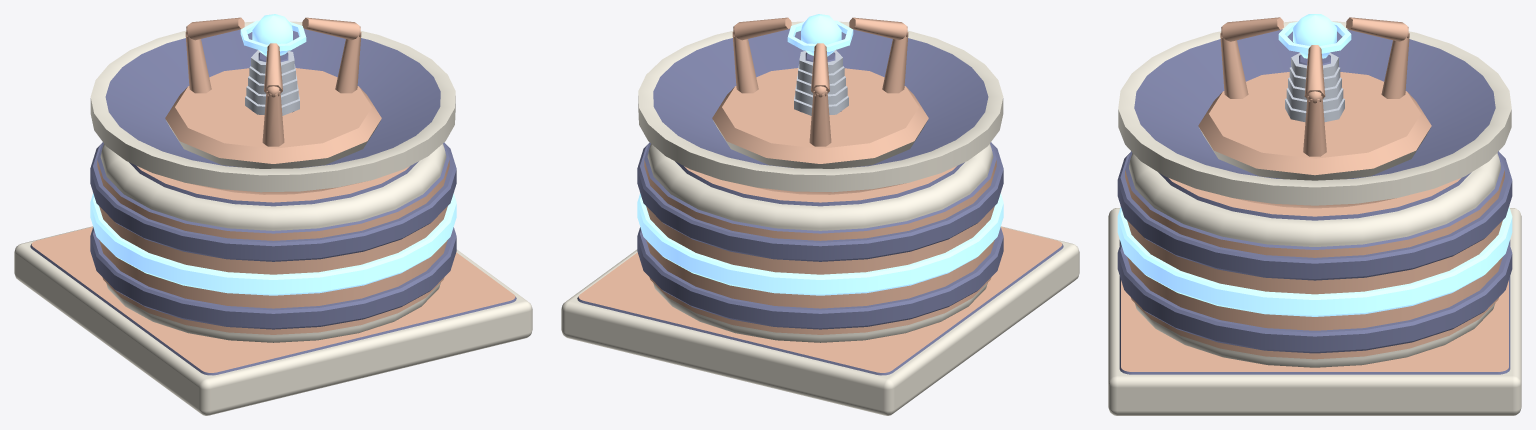
The model's file is R4X_EMPTrapDeployer.fbx.
The picture shows the model from 3 angles, left to right: view 1: azimuth 30°, elevation 25°; view 2: azimuth 150°, elevation 25°; view 3: azimuth 270°, elevation 25°; orthographic projection. The views are drawn at different scales.
Visible parts, largest first — view 1: R4X_EMPTrapDeployer_Body, R4X_EMPTrapDeployer_Payload; view 2: R4X_EMPTrapDeployer_Body, R4X_EMPTrapDeployer_Payload; view 3: R4X_EMPTrapDeployer_Body, R4X_EMPTrapDeployer_Payload.
Part boxes in pixels (box(x1,y1,x2,y2)): R4X_EMPTrapDeployer_Body: box(14, 21, 532, 415); R4X_EMPTrapDeployer_Payload: box(165, 14, 381, 168); R4X_EMPTrapDeployer_Body: box(561, 21, 1079, 415); R4X_EMPTrapDeployer_Payload: box(712, 14, 928, 168); R4X_EMPTrapDeployer_Body: box(1108, 21, 1521, 415); R4X_EMPTrapDeployer_Payload: box(1198, 14, 1431, 180).
Bounding box in the file's own units: 0.514 × 0.437 × 0.514.
